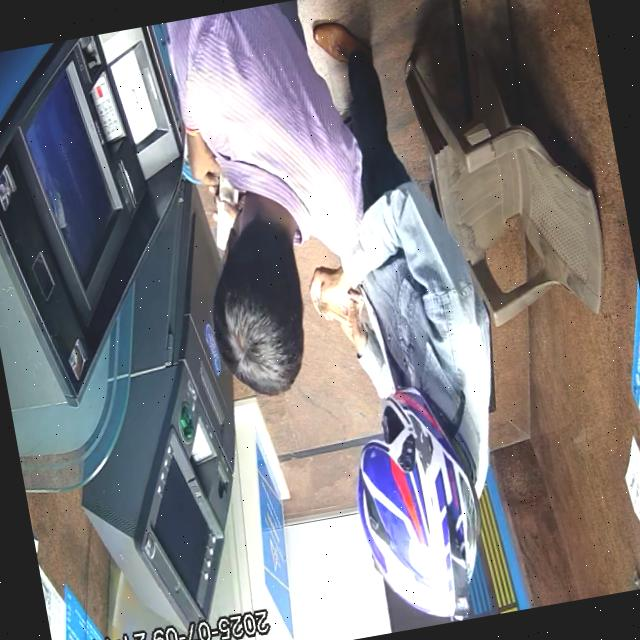helmet: (357, 387, 481, 621)
no_helmet: (212, 191, 304, 397)
